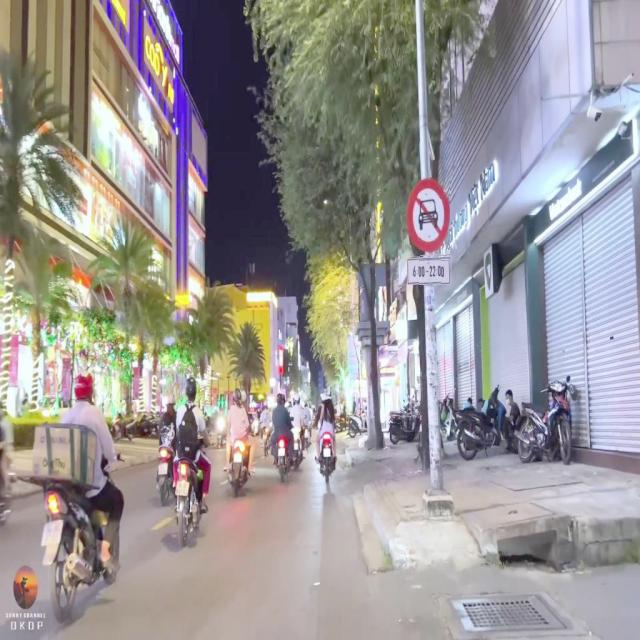cam_o_to: (404, 178, 450, 258)
khac: (408, 258, 452, 285)
